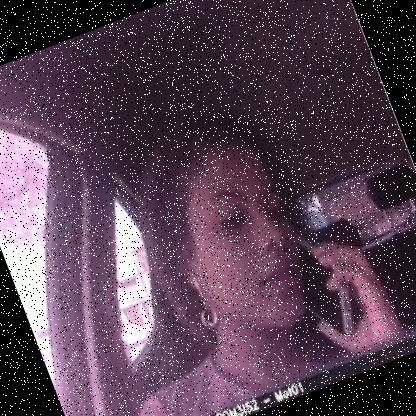phone: (278, 208, 371, 352)
